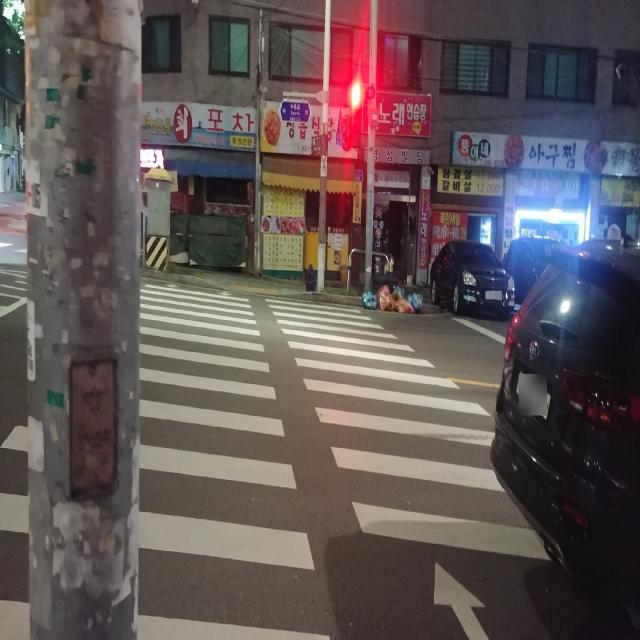빨간불: (351, 82, 362, 148)
횡단보도: (0, 275, 556, 640)
